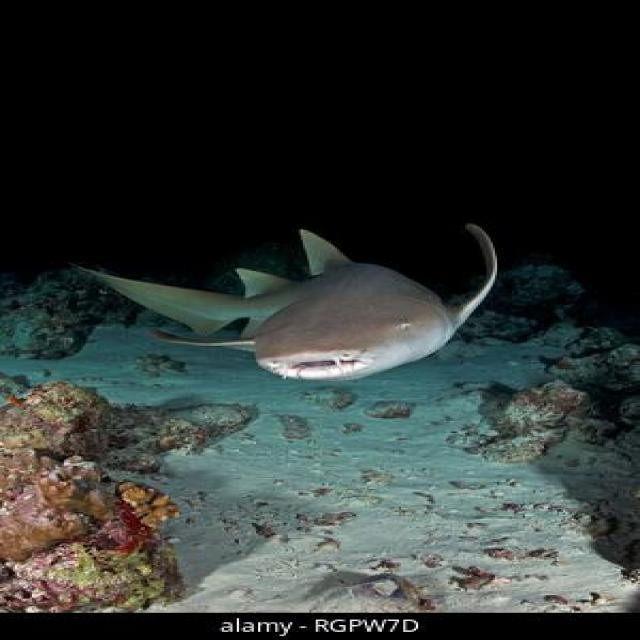Shark: (55, 186, 552, 391)
